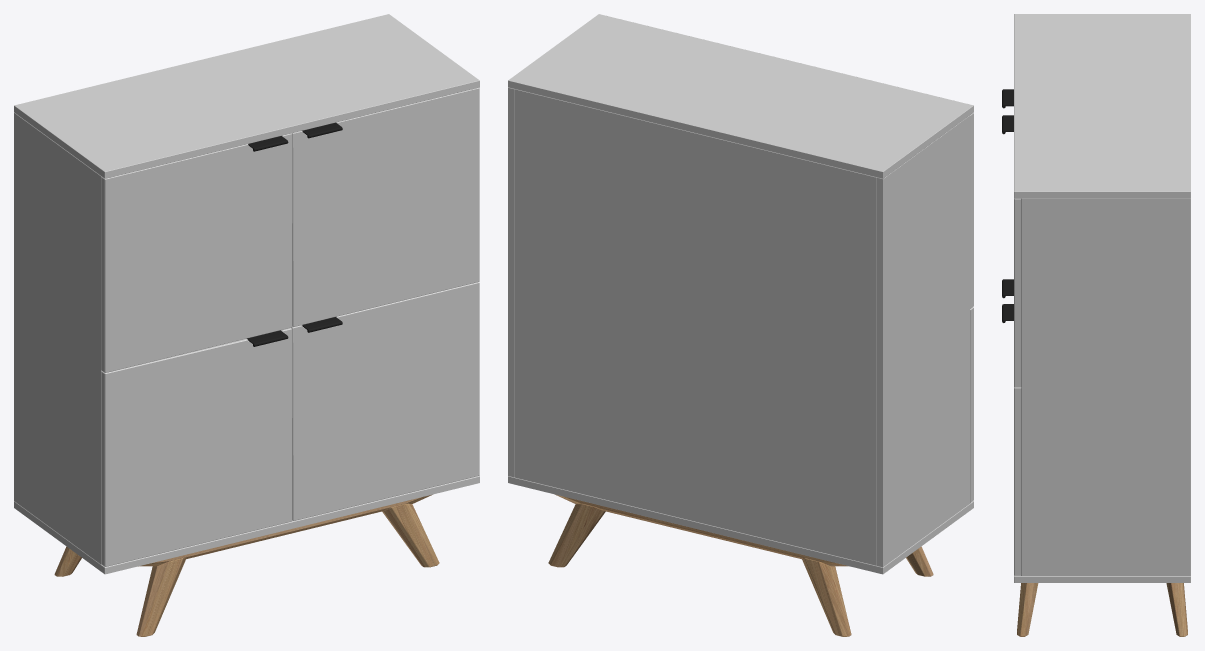
Rendered from cabinet-1-draco.glb.
3 renders of one model, left to right at view 1: azimuth 30°, elevation 25°; view 2: azimuth 150°, elevation 25°; view 3: azimuth 270°, elevation 25°, orthographic. The views are drawn at different scales.
Visible parts, largest first — view 1: GREY, WOOD, Material__27_1; view 2: GREY, WOOD; view 3: GREY, WOOD, Material__27_1.
Boxes of the visible parts, x1,y1,x2,y2 form: GREY: (14, 14, 479, 574); WOOD: (54, 494, 439, 636); Material__27_1: (247, 122, 342, 346); GREY: (508, 14, 973, 574); WOOD: (548, 494, 933, 636); GREY: (1014, 14, 1190, 582); WOOD: (1017, 583, 1187, 636); Material__27_1: (1002, 89, 1013, 322).
Size of the model in its own units: 99.98 by 121 by 44.82.
3 materials, 1 textured.
